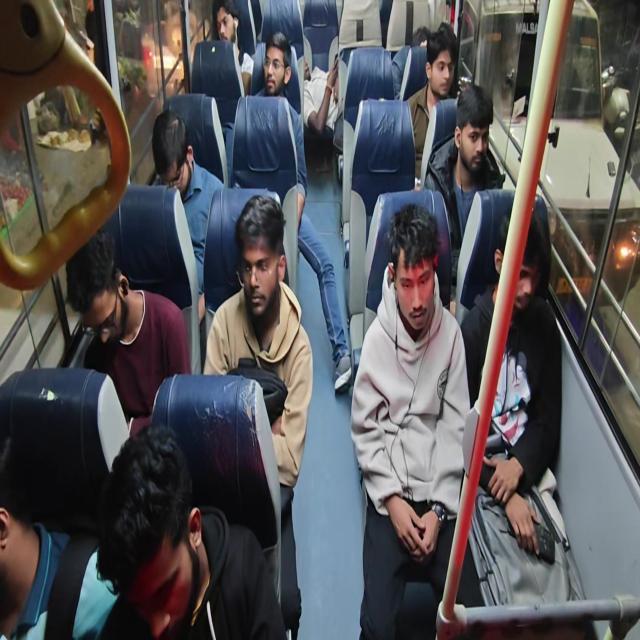person: (86, 421, 222, 636), (62, 218, 130, 349), (0, 421, 40, 640), (387, 201, 442, 334), (232, 189, 287, 316), (490, 200, 549, 314), (450, 77, 499, 170), (151, 108, 196, 202), (261, 27, 301, 108), (418, 21, 456, 98), (209, 0, 243, 53), (413, 17, 434, 56)
